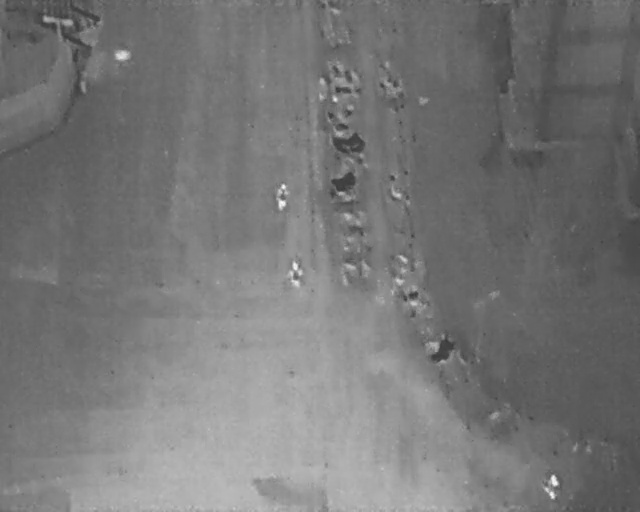Bicycle: (422, 330, 463, 370), (328, 59, 362, 84), (324, 101, 359, 125), (331, 132, 366, 156), (329, 170, 357, 193), (338, 255, 369, 275), (337, 206, 367, 226), (389, 249, 414, 269), (385, 184, 409, 203), (379, 76, 402, 95), (333, 82, 362, 97), (396, 287, 420, 305)
Person: (286, 259, 305, 289), (542, 471, 561, 501), (273, 179, 290, 212)
